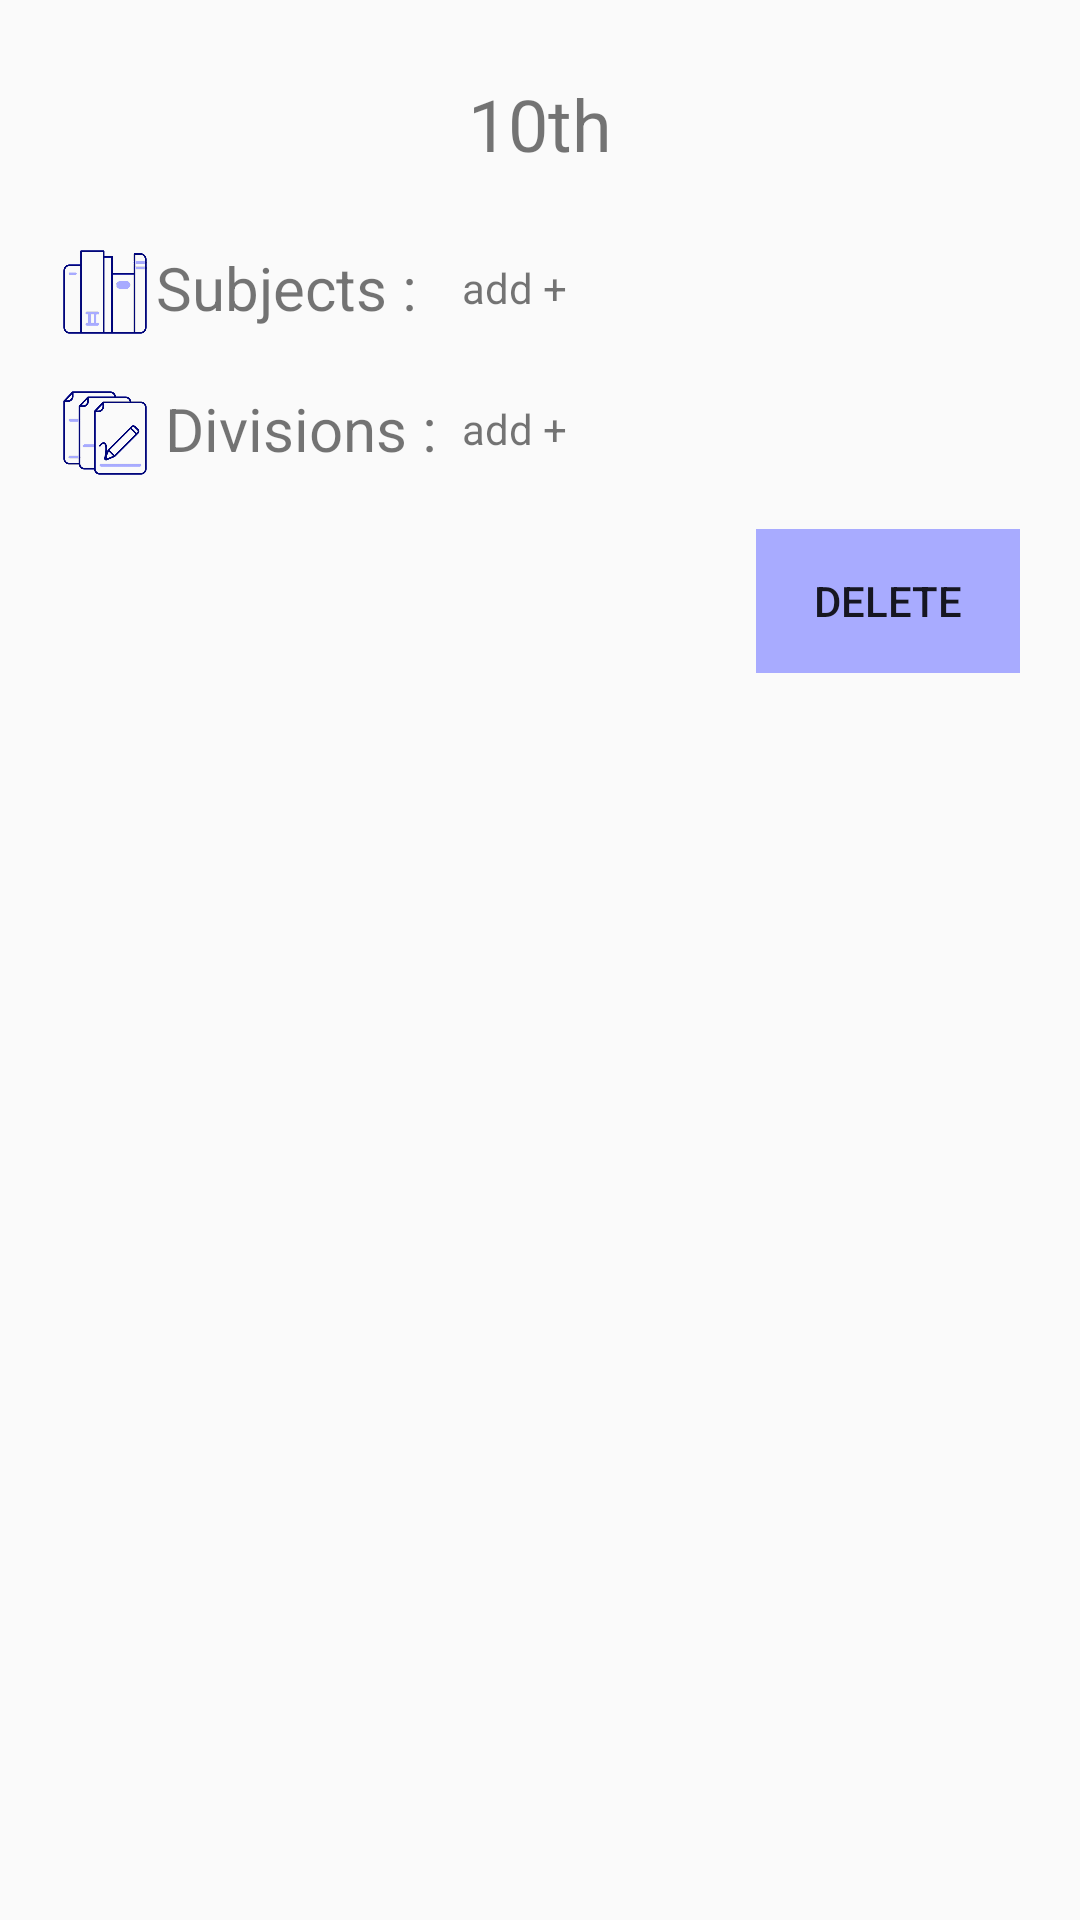

Point at icon controls on the screen. Image size 1080*1920, points as [x,y].
subjectnew: [105,292]
